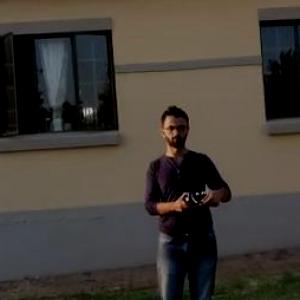follow: (137, 98, 243, 299)
